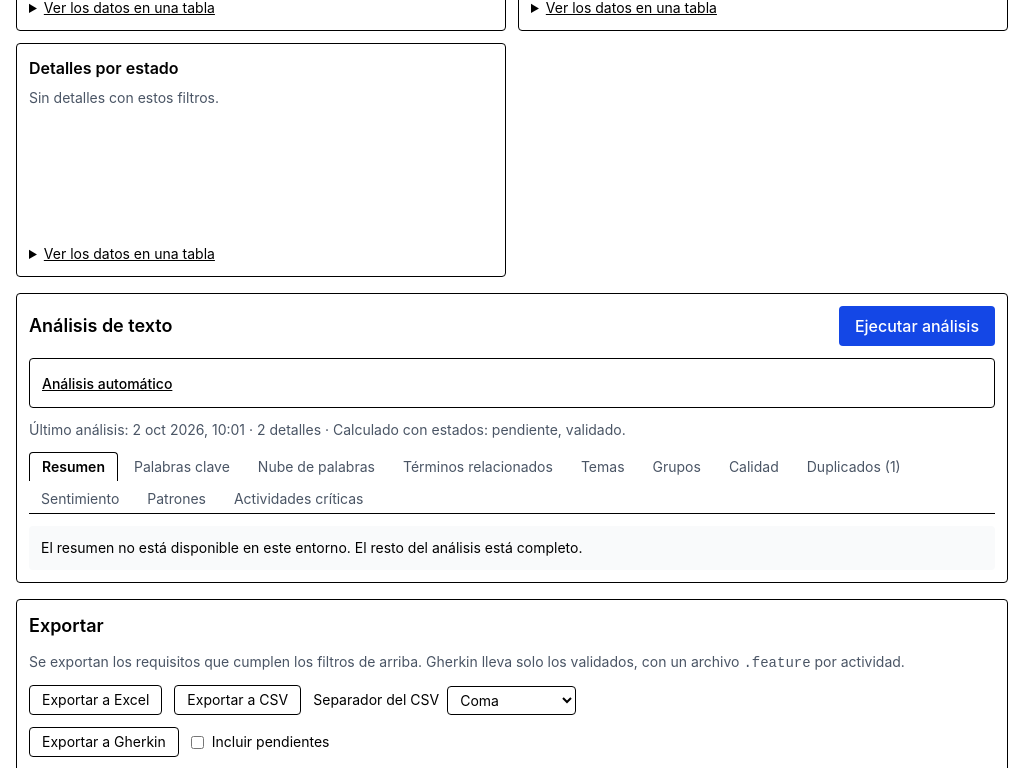
calidad de los requisitos › permite programar el análisis nocturno (desactivado por defecto)
The image size is (1024, 768).
(page scrolled)
Click the button "Análisis automático" at (107, 384), box [42,374,172,394]
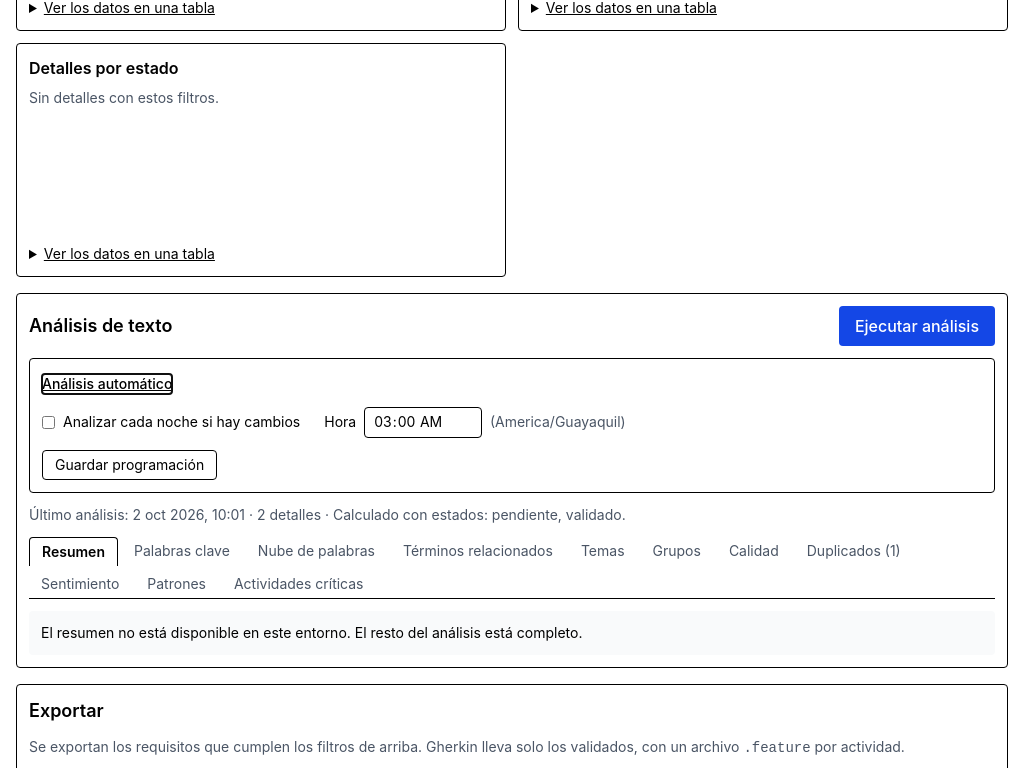
Expected: the checkbox labelled "Analizar cada noche si hay cambios" is enabled
Expected: the checkbox labelled "Analizar cada noche si hay cambios" is not checked
Expected: the time field labelled "Hora" is disabled, [364,407,482,438]
Click the checkbox labelled "Analizar cada noche si hay cambios" at (48, 422), box [42,416,55,429]
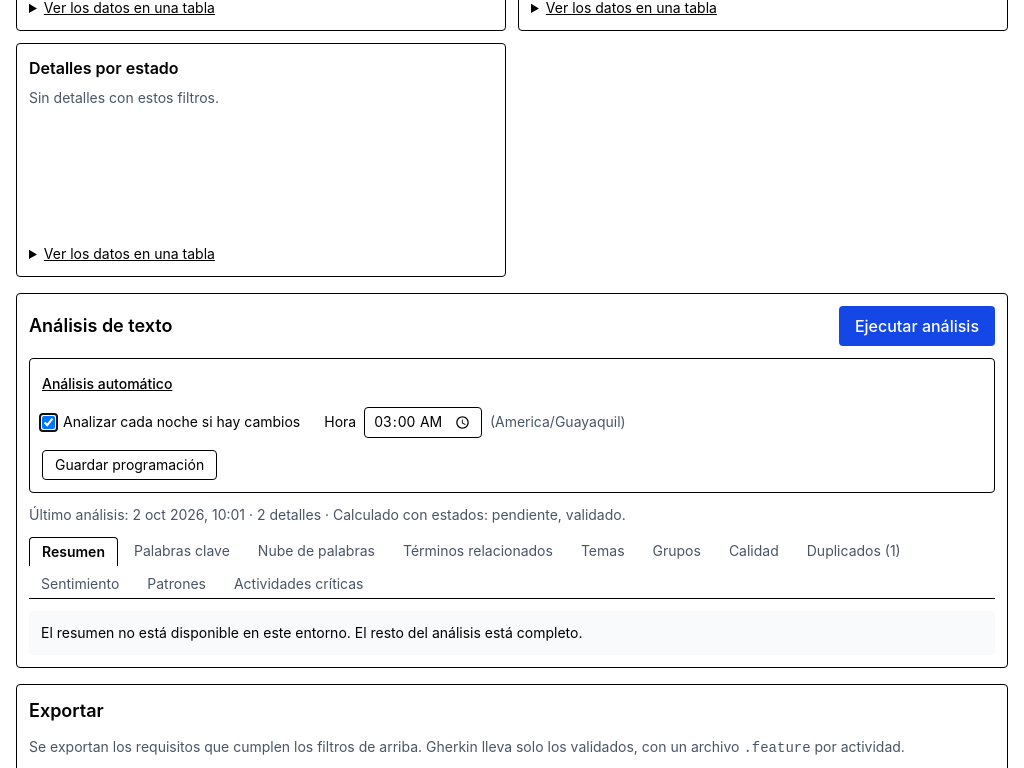
Clear the time field labelled "Hora" at (423, 422), box [364,407,482,438]
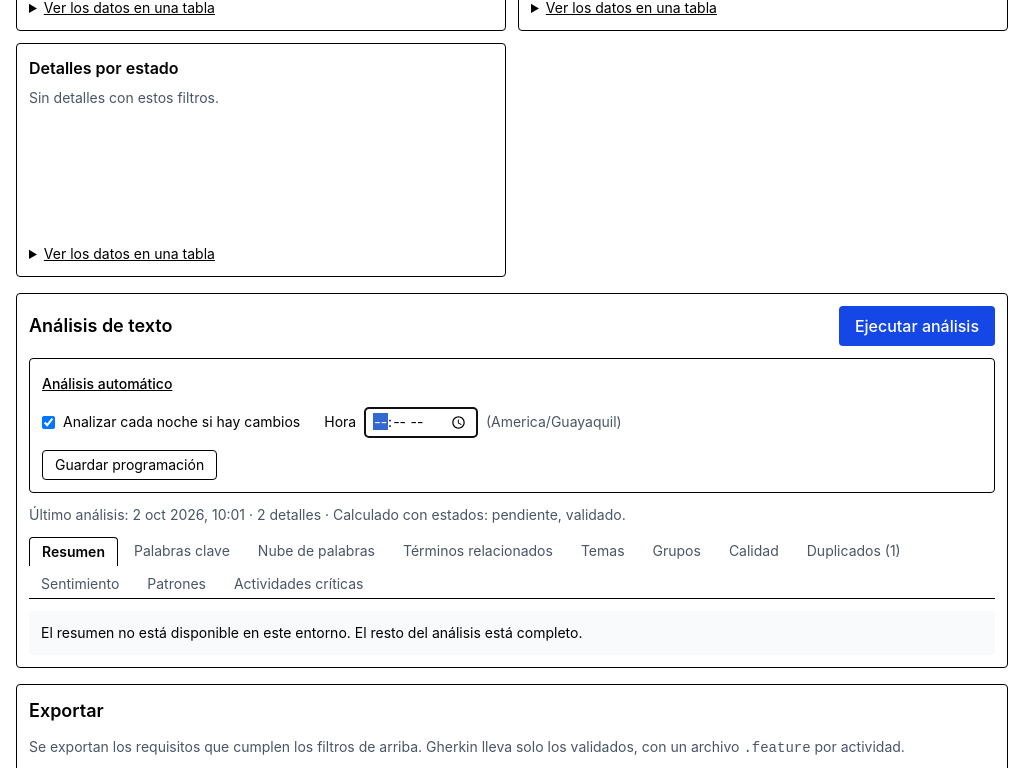
Type "02:30" into the time field labelled "Hora" at (421, 422), box [364,407,478,438]
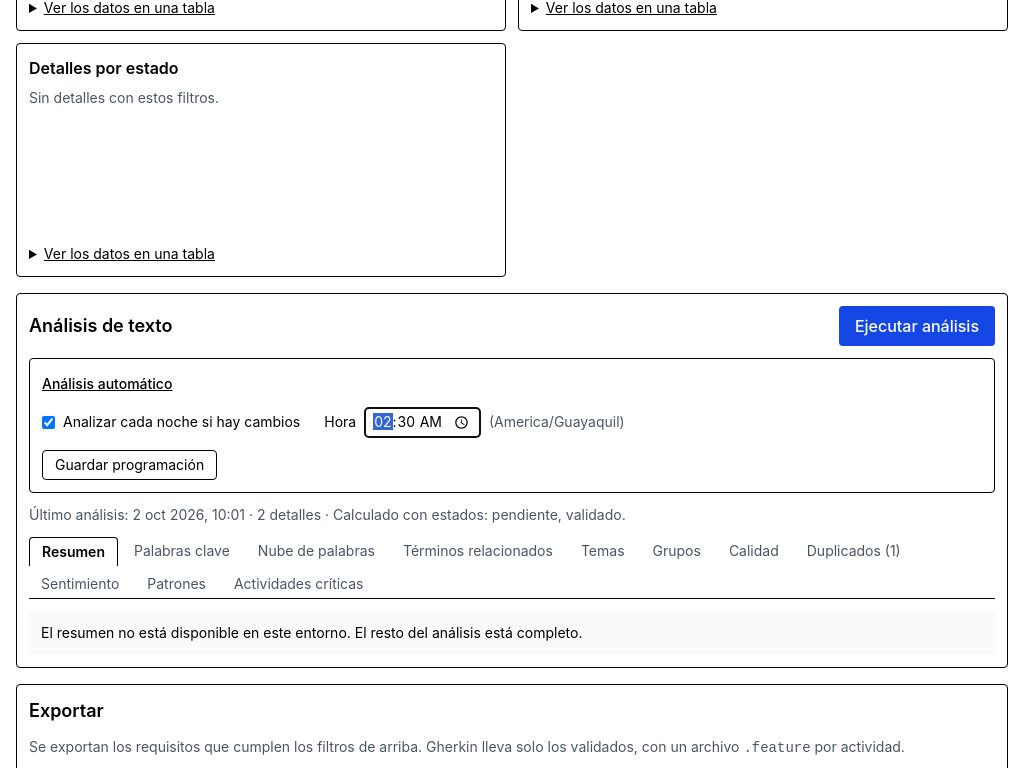
Click the button "Guardar programación" at (130, 465), box [42,450,217,480]
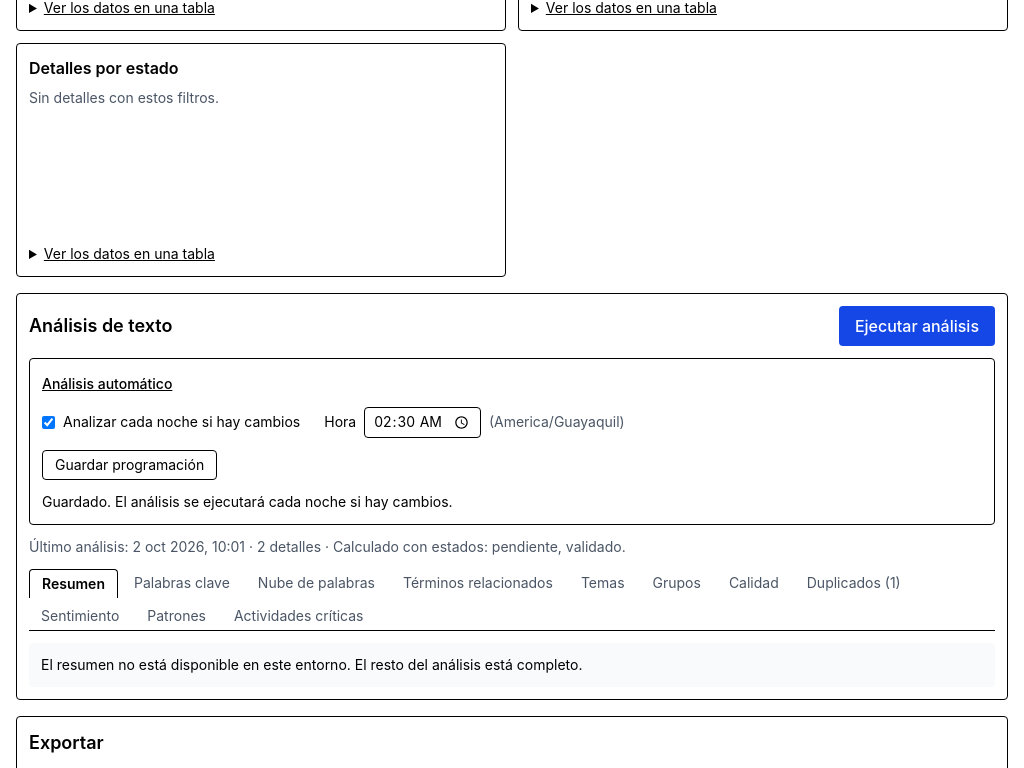
Expected: the text "Guardado. El análisis se ejecutará cada noche si hay cambios." is shown, [42,493,453,510]
